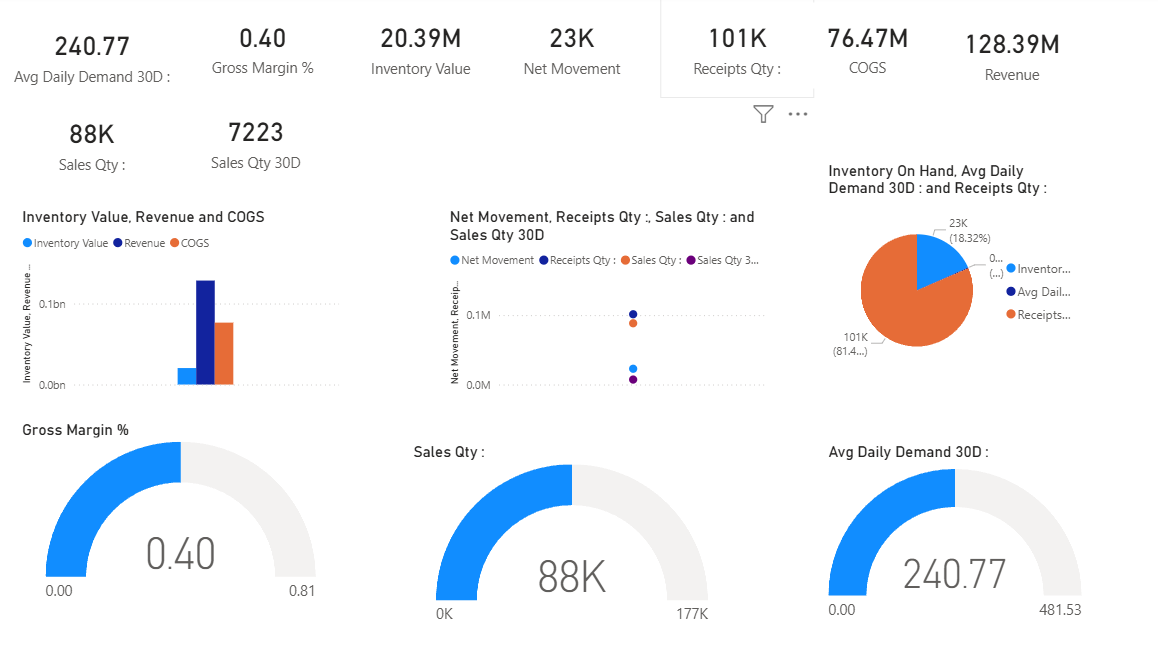

Layout of this report page (visuals, bound fields, positions):
{"tool":"powerbi","page":{"name":"Page 1","canvas":[1280,720],"ordinal":0},"visuals":[{"type":"card","fields":{"Values":["Calendar.Avg Daily Demand 30D :"]},"box":[9.6,0,196.2,130.4],"z":0},{"type":"card","fields":{"Values":["Calendar.Gross Margin %"]},"box":[220.9,8.2,148.2,94.7],"z":1000},{"type":"card","fields":{"Values":["Calendar.Inventory Value"]},"box":[388.3,0,160.5,112.5],"z":2000},{"type":"card","fields":{"Values":["Calendar.Net Movement"]},"box":[548.9,0,171.5,112.5],"z":3000},{"type":"card","fields":{"Values":["Calendar.Receipts Qty :"]},"box":[731.4,0,168.8,112.5],"z":4000},{"type":"card","fields":{"Values":["Calendar.COGS"]},"box":[882.3,8.2,153.7,94.7],"z":4001},{"type":"card","fields":{"Values":["Calendar.Revenue"]},"box":[1036,8.2,163.3,109.8],"z":4002},{"type":"card","fields":{"Values":["Calendar.Sales Qty :"]},"box":[30.2,118,155.1,87.8],"z":4003},{"type":"card","fields":{"Values":["Calendar.Sales Qty 30D"]},"box":[220.9,102.9,133.1,112.5],"z":4004},{"type":"clusteredColumnChart","fields":{"Y":["Calendar.Inventory Value","Calendar.Revenue","Calendar.COGS"]},"box":[26.1,233.3,358.1,208.6],"z":4005},{"type":"lineChart","fields":{"Y":["Calendar.Net Movement","Calendar.Receipts Qty :","Calendar.Sales Qty :","Calendar.Sales Qty 30D"]},"box":[495.4,233.3,358.1,208.6],"z":4006},{"type":"gauge","fields":{"Y":["Calendar.Gross Margin %"]},"box":[26,466.5,358,209],"z":4007},{"type":"gauge","fields":{"Y":["Calendar.Sales Qty :"]},"box":[455.6,491.3,358.1,209.9],"z":4008},{"type":"pieChart","fields":{"Y":["Calendar.Inventory On Hand","Calendar.Avg Daily Demand 30D :","Calendar.Receipts Qty :"]},"box":[911.2,182.5,288.2,245.6],"z":4009},{"type":"gauge","fields":{"Y":["Calendar.Avg Daily Demand 30D :"]},"box":[911,491,288,210],"z":4010}]}

Visuals, with their boxes in screenshot pixels (x1, y1, x2, y2), scaled from the page's 1280x720 canvas onto the 1158x645 screenshot:
card - Calendar.Avg Daily Demand 30D :: bbox=[9, 0, 186, 117]
card - Calendar.Gross Margin %: bbox=[200, 7, 334, 92]
card - Calendar.Inventory Value: bbox=[351, 0, 496, 101]
card - Calendar.Net Movement: bbox=[497, 0, 652, 101]
card - Calendar.Receipts Qty :: bbox=[662, 0, 814, 101]
card - Calendar.COGS: bbox=[798, 7, 937, 92]
card - Calendar.Revenue: bbox=[937, 7, 1085, 106]
card - Calendar.Sales Qty :: bbox=[27, 106, 168, 184]
card - Calendar.Sales Qty 30D: bbox=[200, 92, 320, 193]
clusteredColumnChart - Calendar.Inventory Value x Calendar.Revenue: bbox=[24, 209, 348, 396]
lineChart - Calendar.Net Movement x Calendar.Receipts Qty :: bbox=[448, 209, 772, 396]
gauge - Calendar.Gross Margin %: bbox=[24, 418, 347, 605]
gauge - Calendar.Sales Qty :: bbox=[412, 440, 736, 628]
pieChart - Calendar.Inventory On Hand x Calendar.Avg Daily Demand 30D :: bbox=[824, 163, 1085, 384]
gauge - Calendar.Avg Daily Demand 30D :: bbox=[824, 440, 1085, 628]
